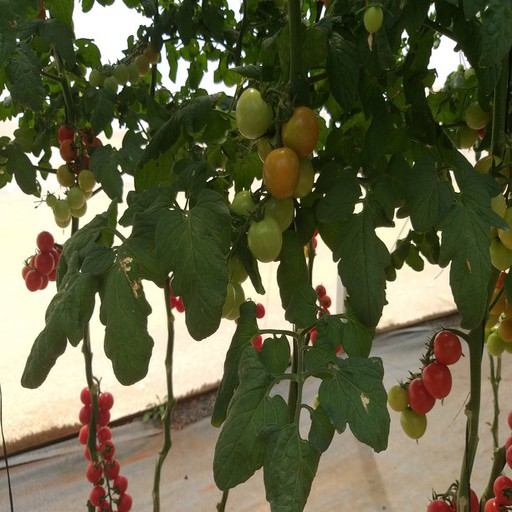green tomato bunch: (89, 35, 165, 94), (450, 81, 493, 151)
mixed tomato bunch: (219, 87, 317, 319), (466, 160, 512, 268), (466, 270, 512, 356), (43, 172, 95, 227)
red tomato bunch: (80, 385, 133, 512), (409, 329, 459, 415), (23, 230, 67, 291), (486, 410, 511, 512), (432, 473, 479, 512)
